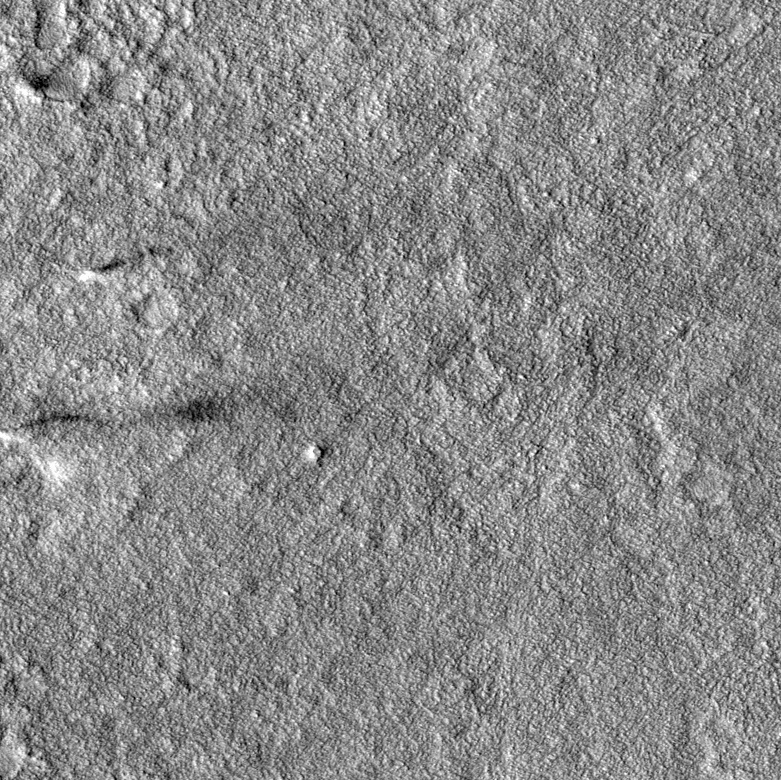dust_devil: (1, 388, 239, 485), (75, 241, 175, 285)
